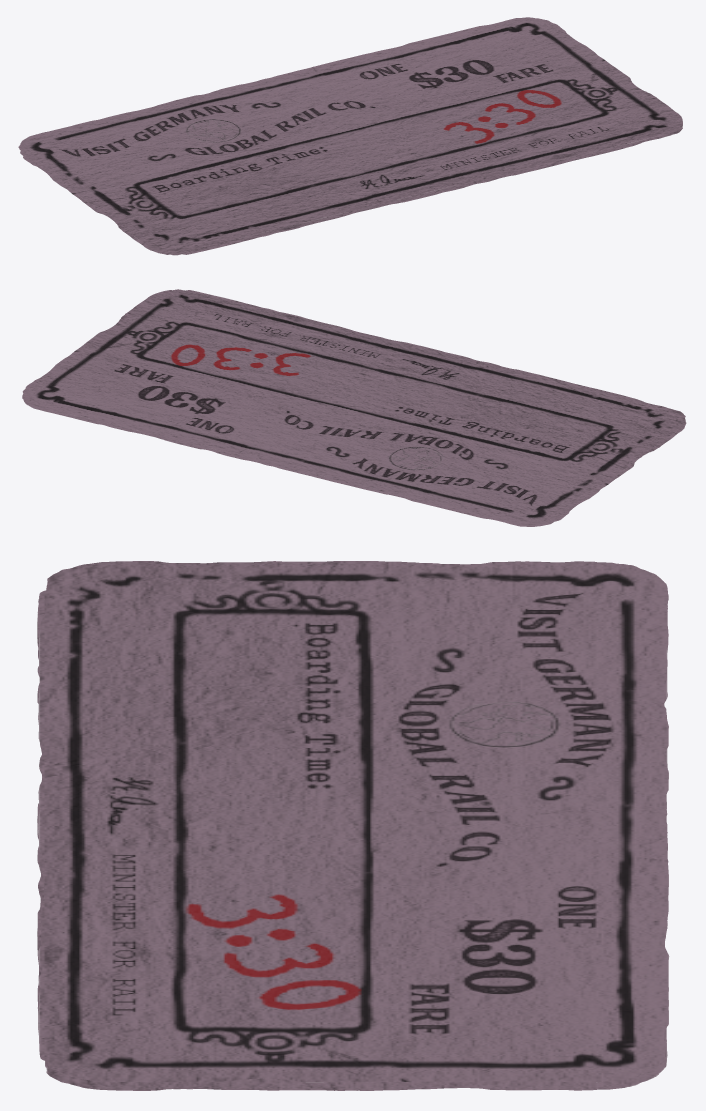
File: SM_TrainTicket.fbx
The picture shows the model from 3 angles, top to bottom: view 1: azimuth 30°, elevation 25°; view 2: azimuth 150°, elevation 25°; view 3: azimuth 270°, elevation 25°; orthographic projection. The views are drawn at different scales.
Parts seen in each view (by area): view 1: TrainTicket; view 2: TrainTicket; view 3: TrainTicket.
Part boxes in pixels (<box>): TrainTicket: <box>18,17,682,255</box>; TrainTicket: <box>22,289,686,526</box>; TrainTicket: <box>37,561,669,1090</box>.
Bounding box in the file's own units: 205 × 1.42 × 107.
